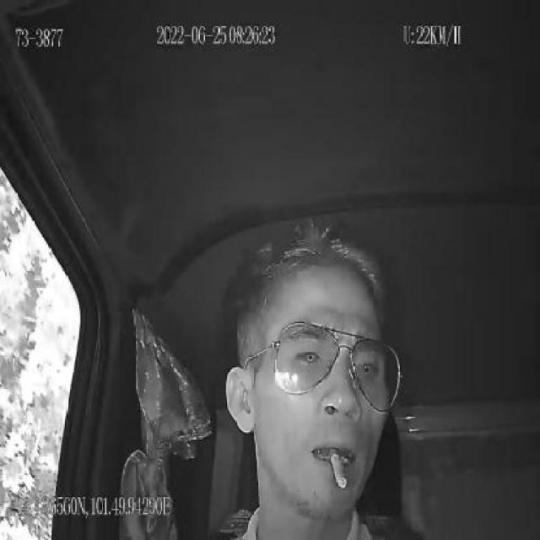smoking: (328, 444, 350, 491)
